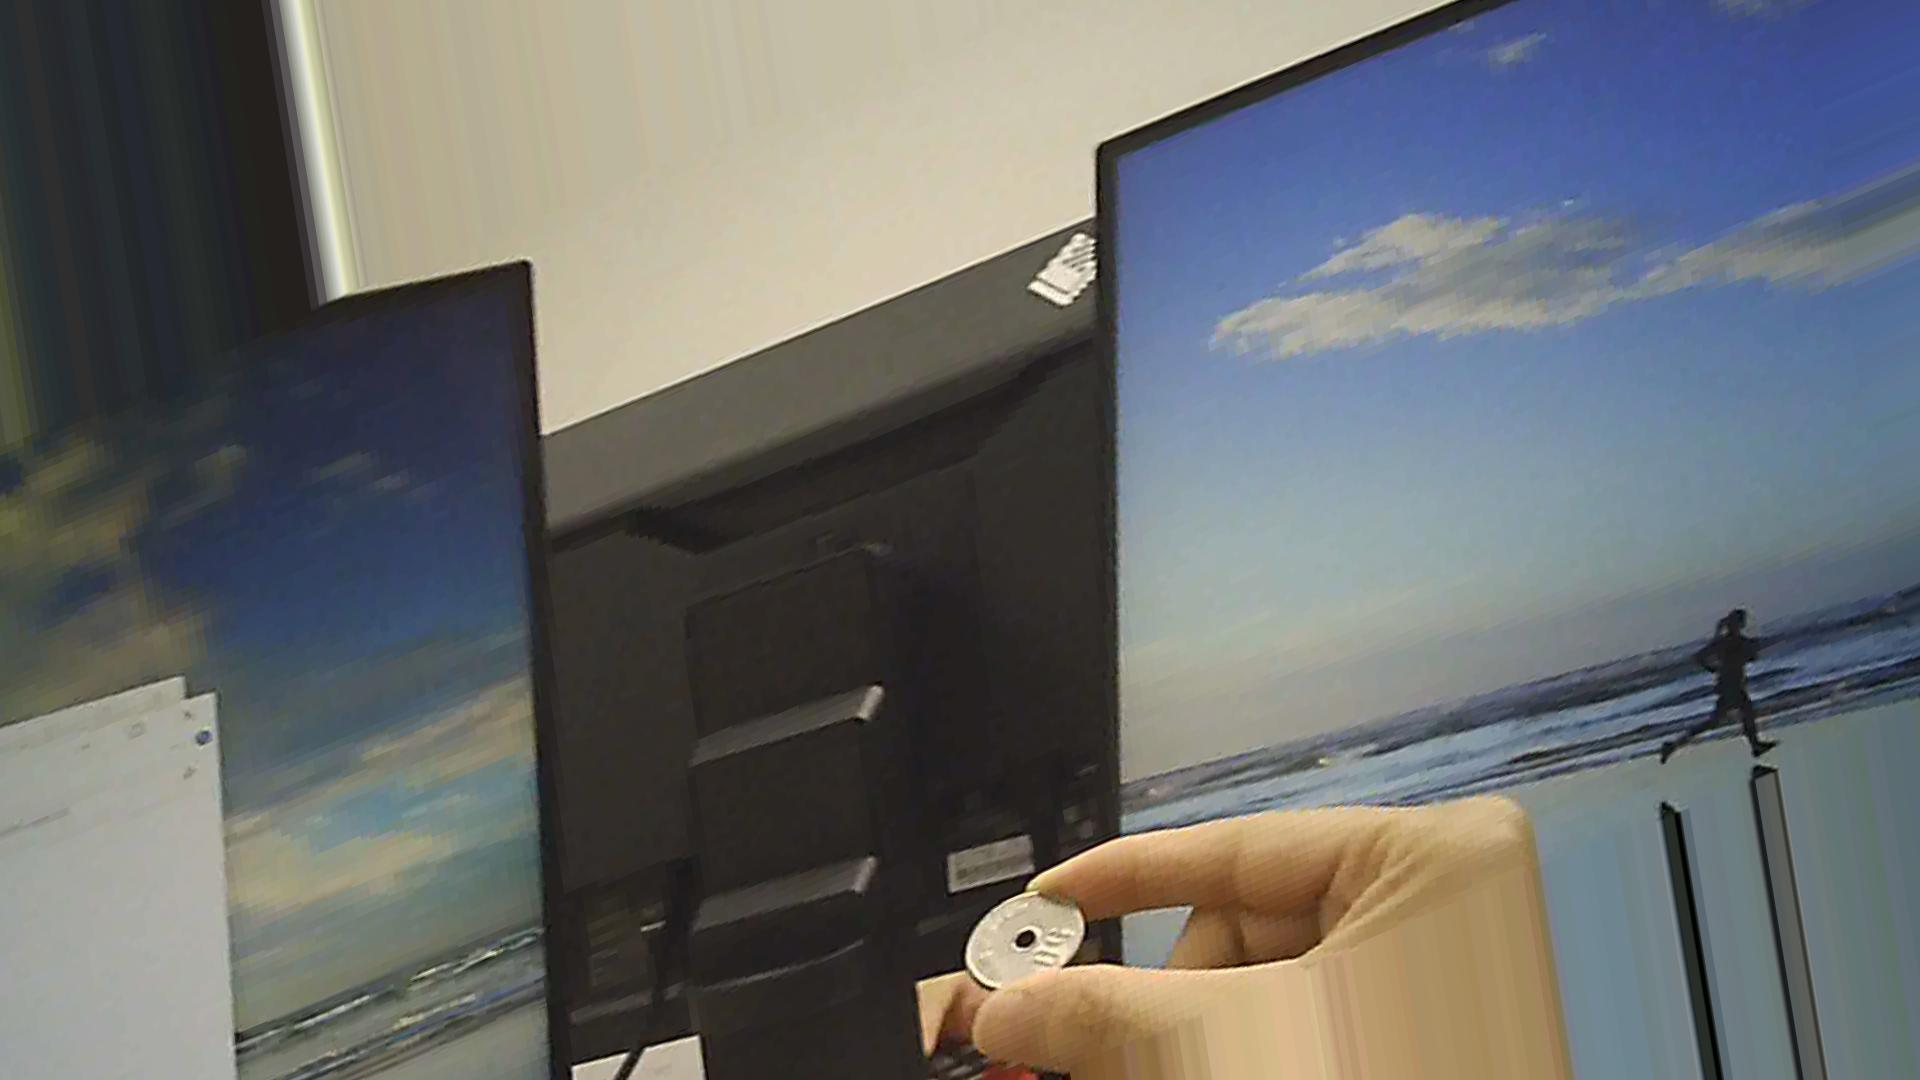50 Yen: (951, 876, 1102, 980)
